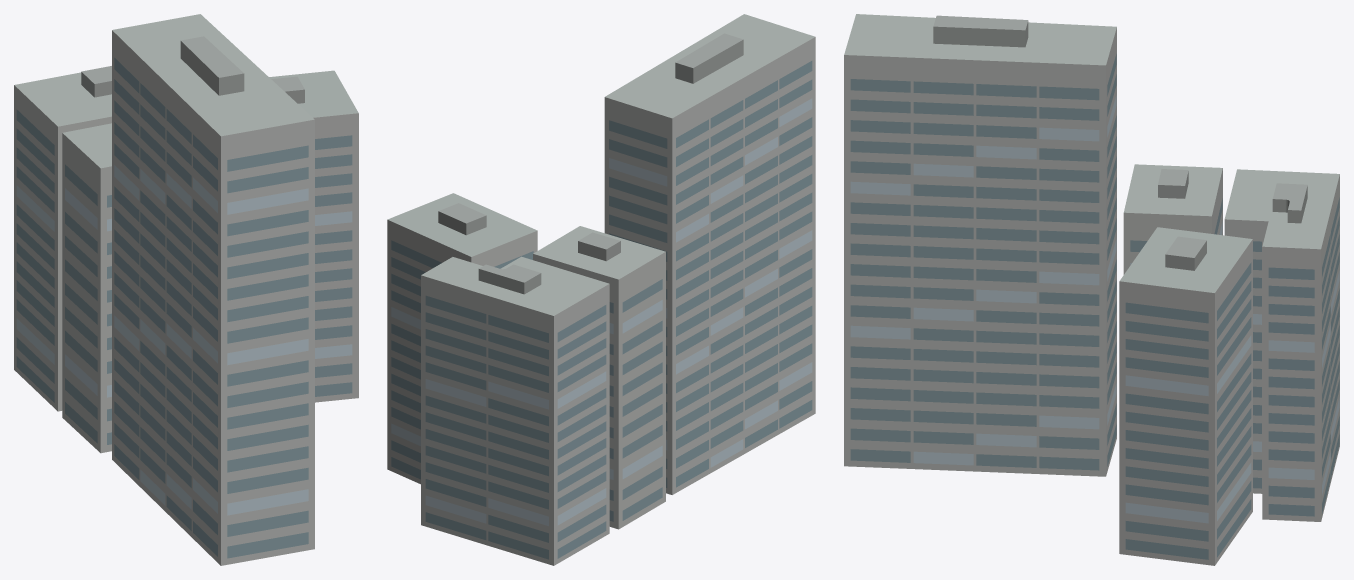
Rendered from apt-a10023372.glb.
3 renders of one model, left to right at view 1: azimuth 30°, elevation 25°; view 2: azimuth 150°, elevation 25°; view 3: azimuth 270°, elevation 25°, orthographic. The views are drawn at different scales.
Parts seen in each view (by area): view 1: apt-a10023372; view 2: apt-a10023372; view 3: apt-a10023372.
Boxes of the visible parts, x1,y1,x2,y2 form: apt-a10023372: (14, 14, 358, 565); apt-a10023372: (387, 14, 815, 565); apt-a10023372: (844, 14, 1339, 565).
Bounding box in the file's own units: 42.24 × 60 × 62.92.
